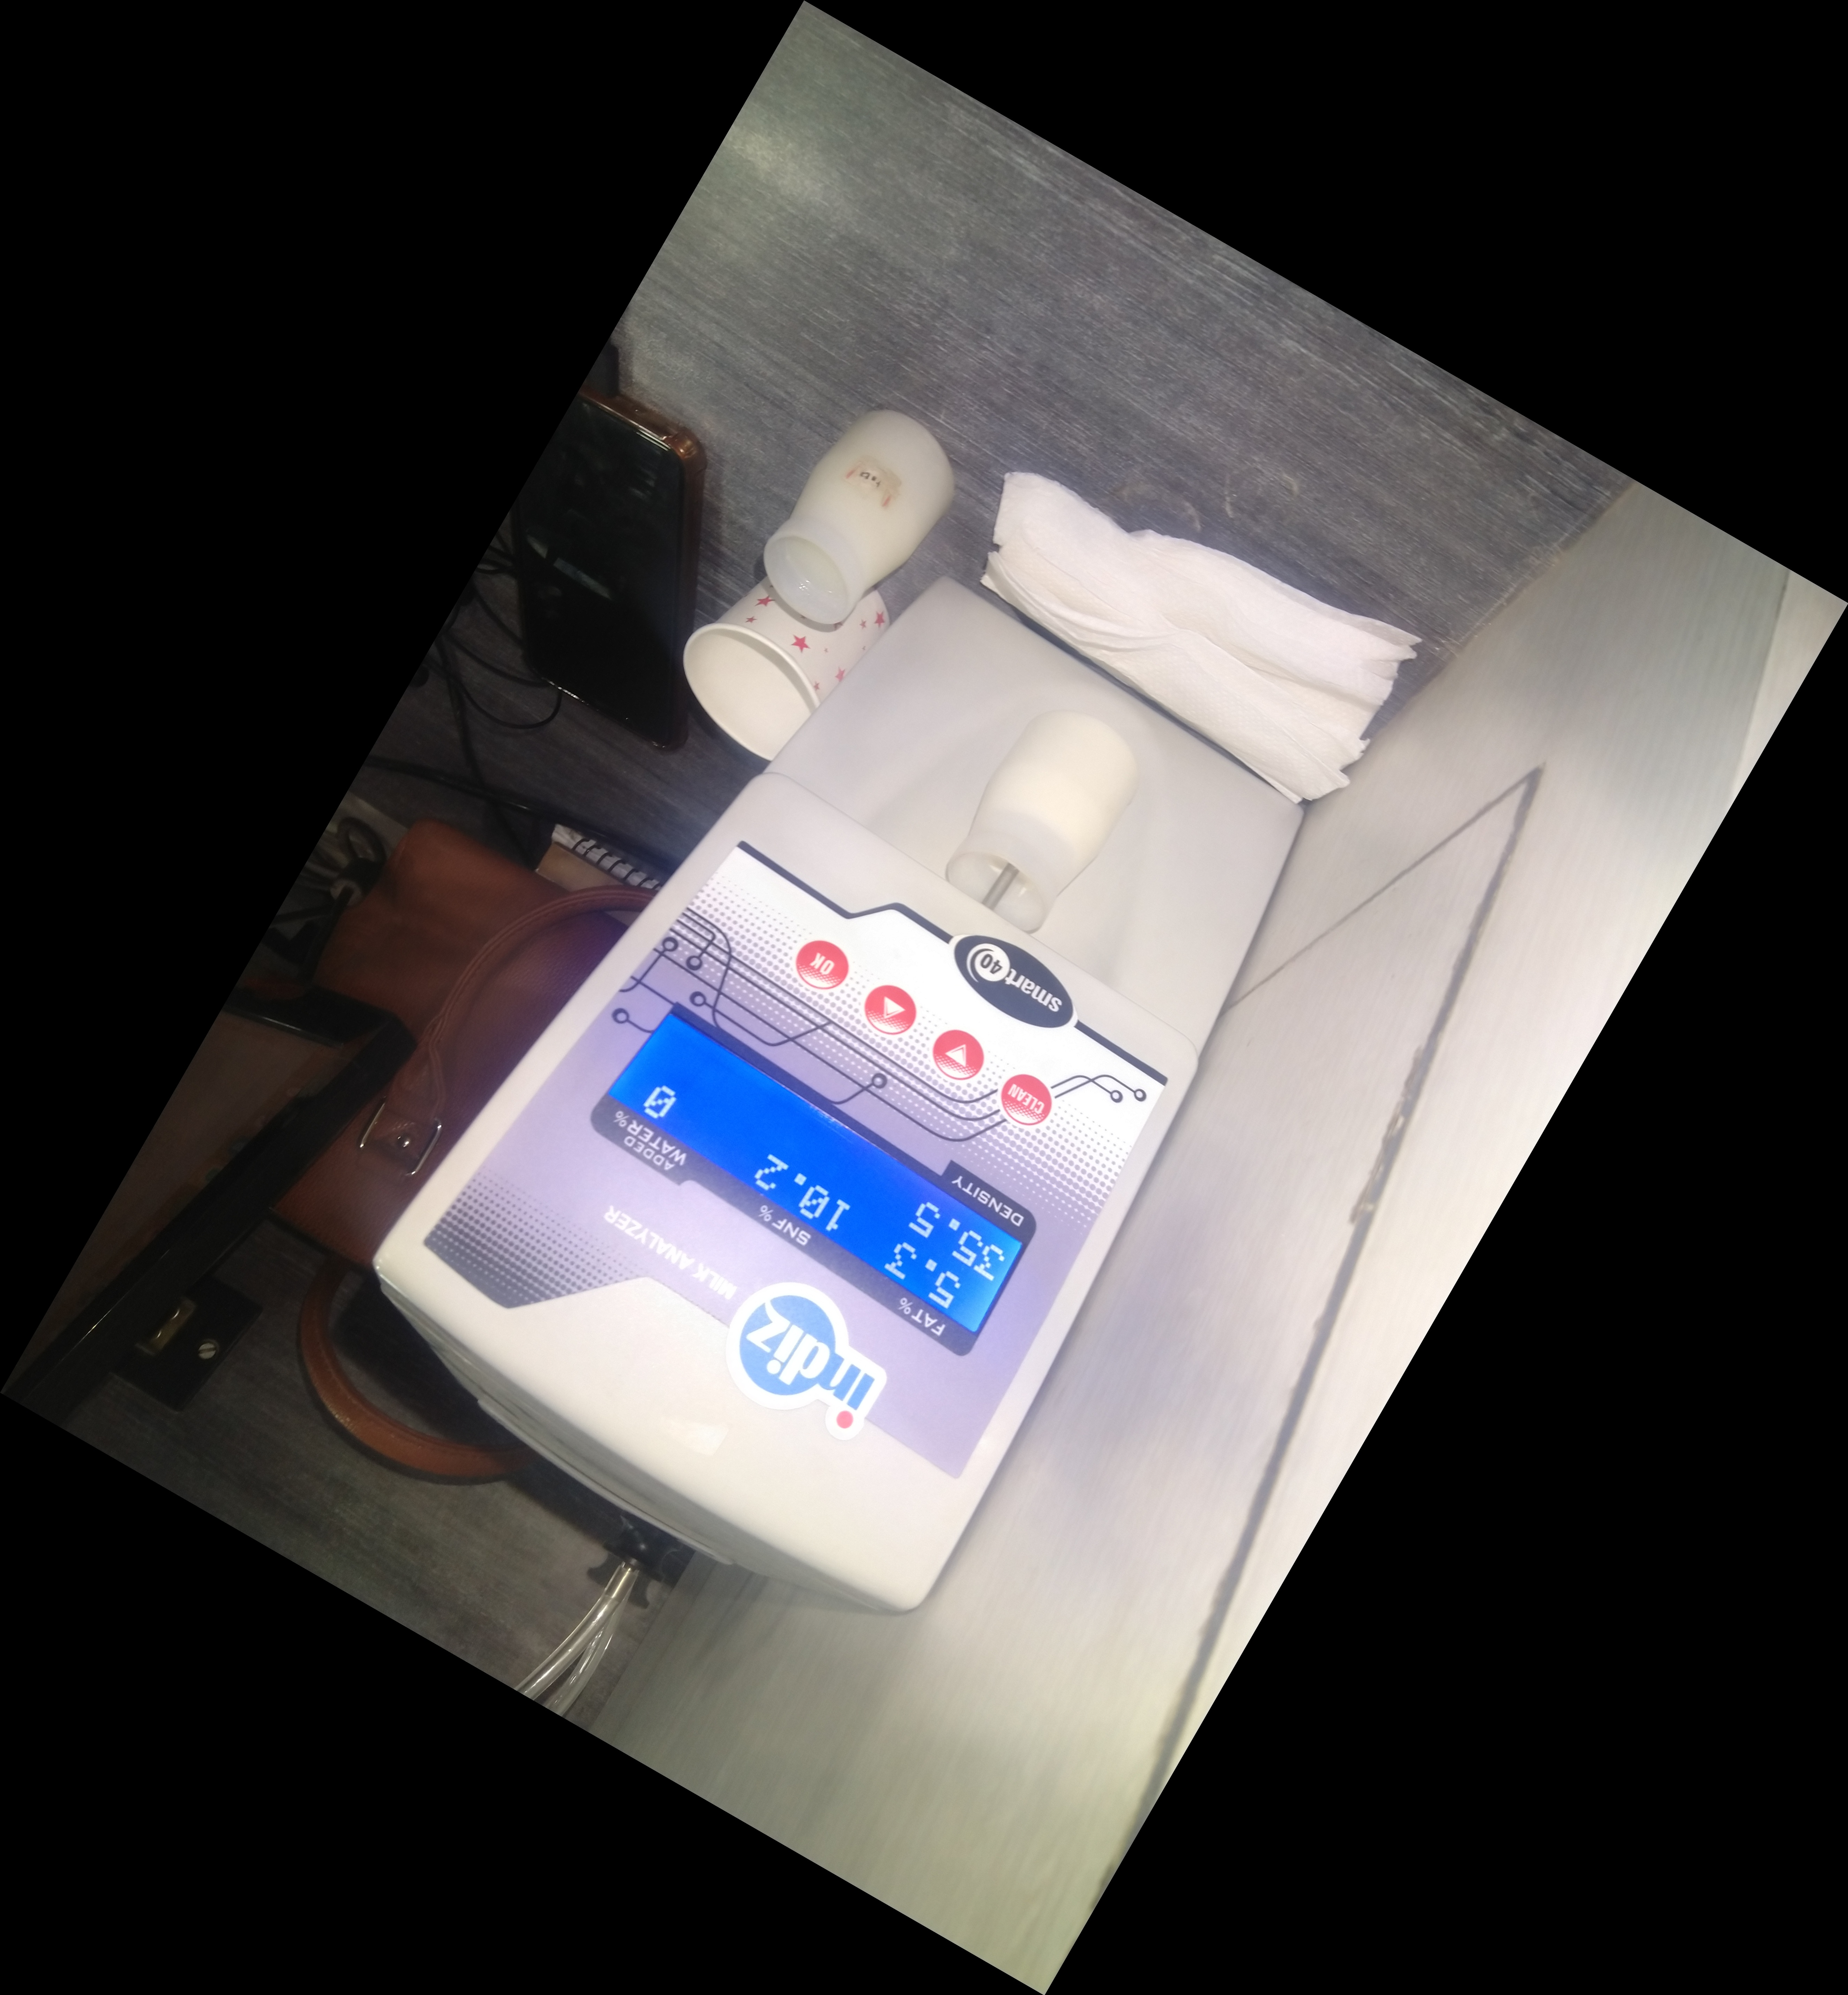lcd: (574, 994, 1048, 1362)
